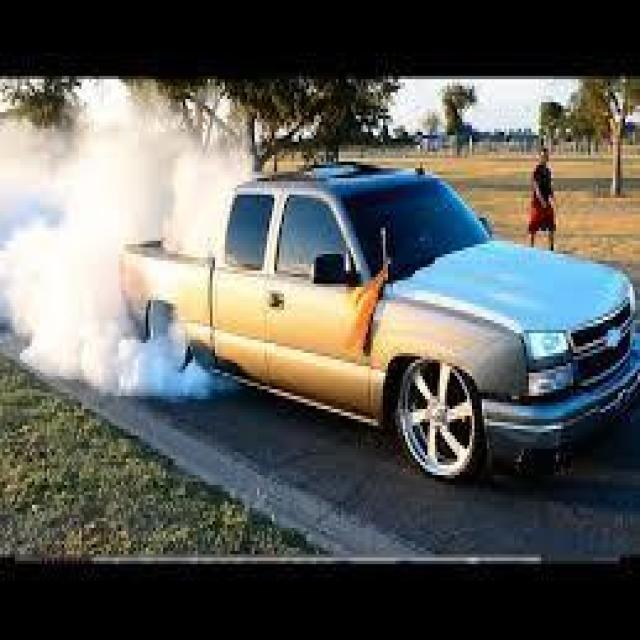smoke: (4, 99, 214, 398)
